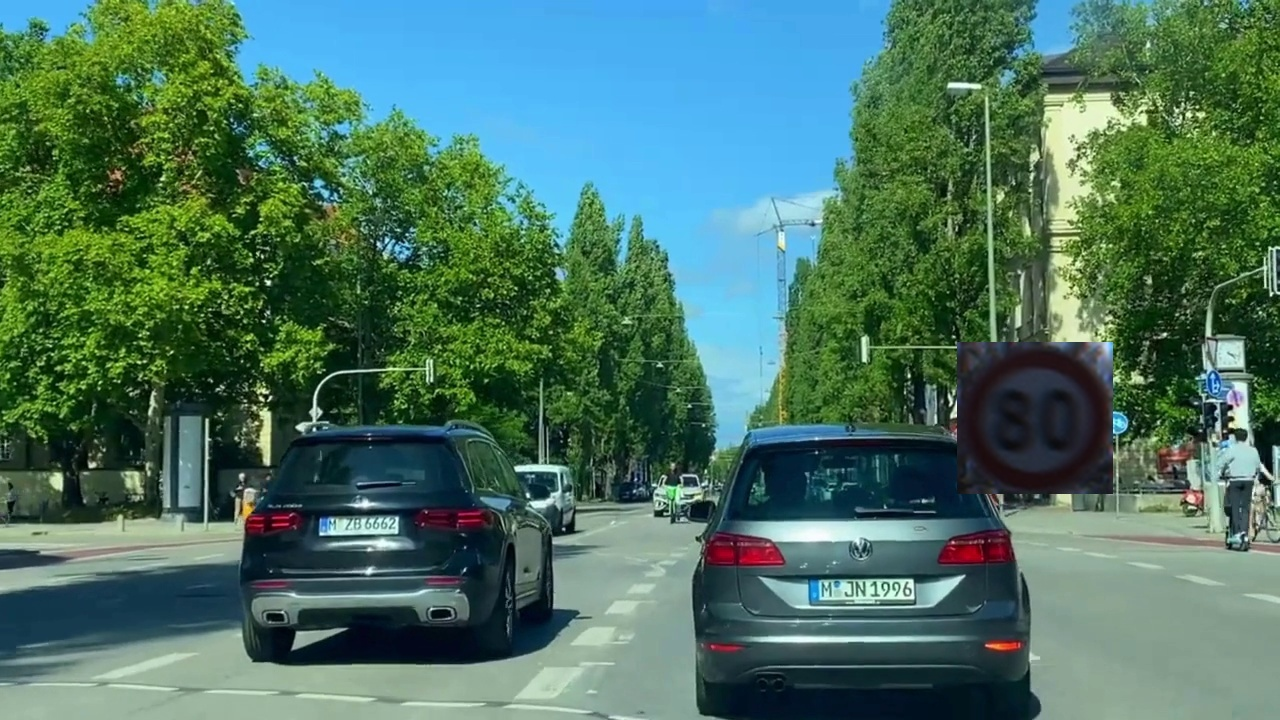Speed 80: (957, 342, 1113, 494)
